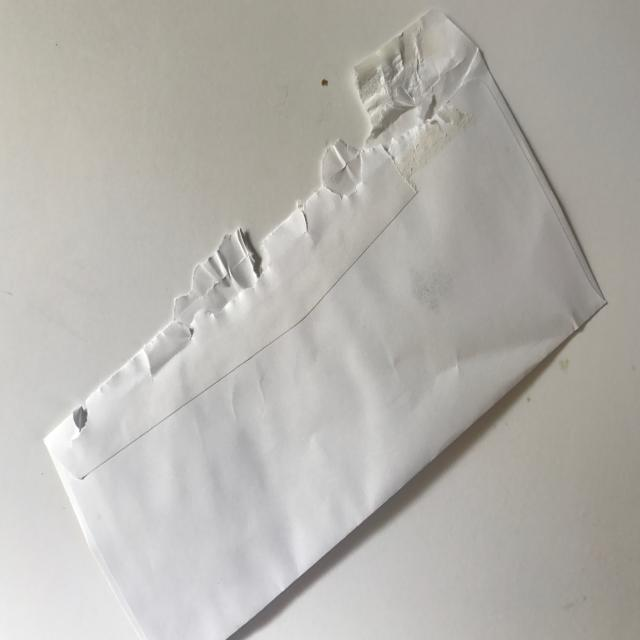paper: (38, 0, 614, 640)
